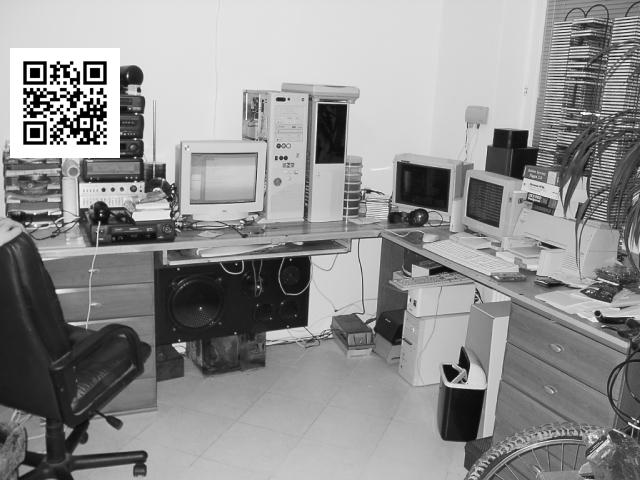qr_code: (11, 48, 119, 156)
